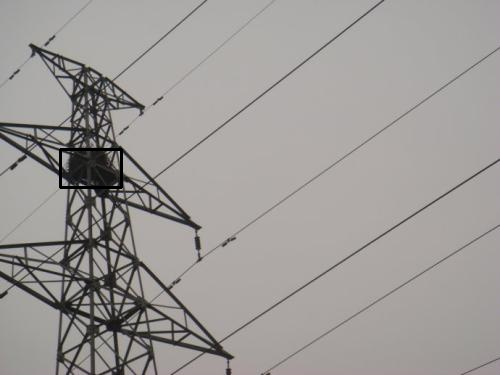bird-nest: (60, 149, 121, 187)
